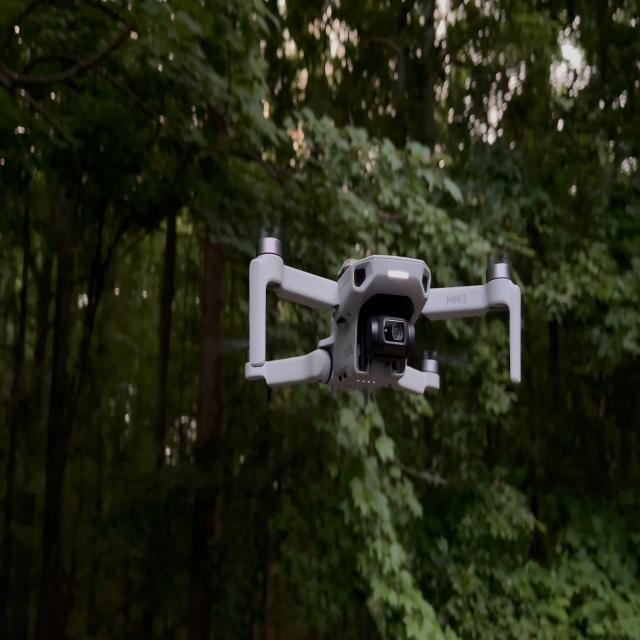Drone: (242, 233, 522, 395)
